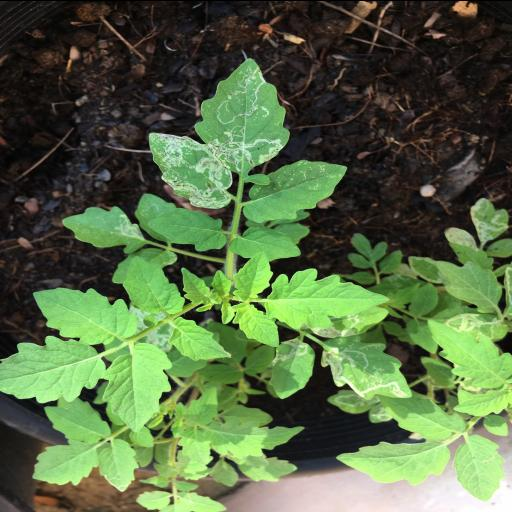Healthy: (261, 267, 389, 330), (0, 336, 105, 403), (99, 341, 173, 432), (32, 286, 140, 344), (427, 318, 512, 388), (334, 438, 452, 486), (123, 254, 187, 312), (436, 258, 502, 312), (454, 434, 506, 502), (146, 207, 226, 251), (28, 438, 98, 486), (167, 316, 233, 360), (226, 226, 302, 260)
Leaf Miner: (193, 58, 290, 174), (146, 130, 232, 208), (317, 334, 413, 398), (60, 205, 142, 253), (266, 335, 315, 397), (469, 197, 511, 241)
